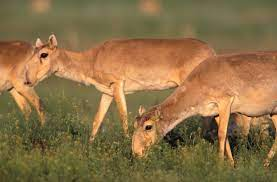saiga: (24, 32, 233, 162), (127, 49, 277, 165)
